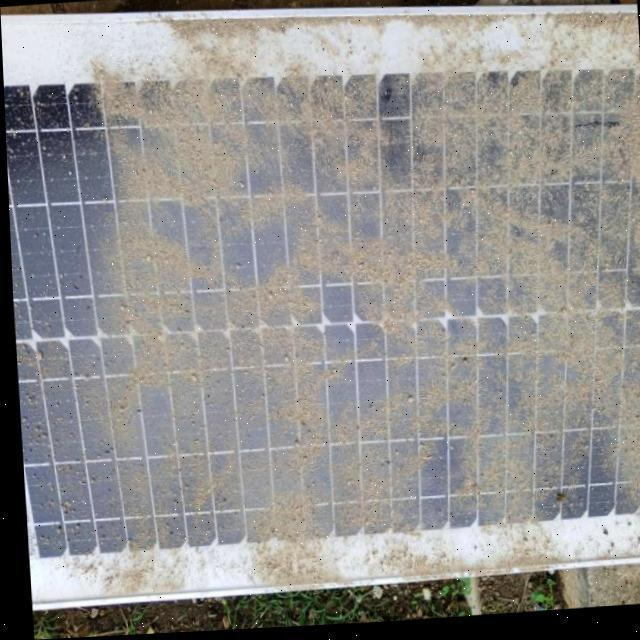Surface Contaminant: (7, 20, 640, 586)
